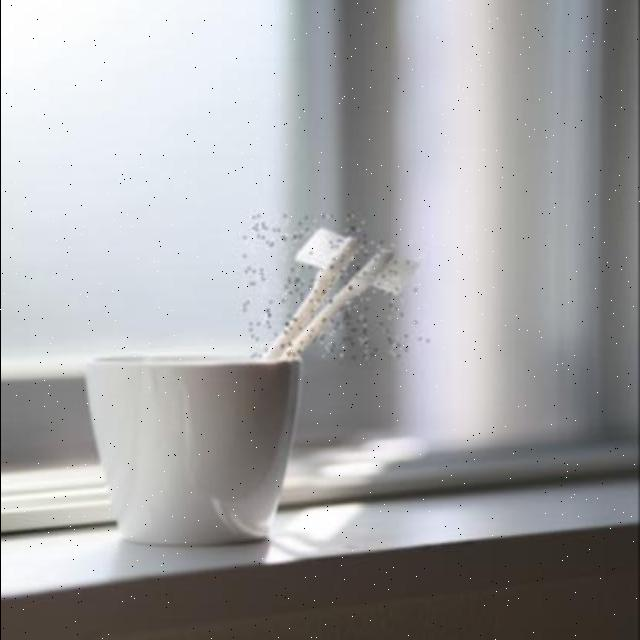toothbrush: (245, 216, 368, 360), (293, 242, 429, 356)
